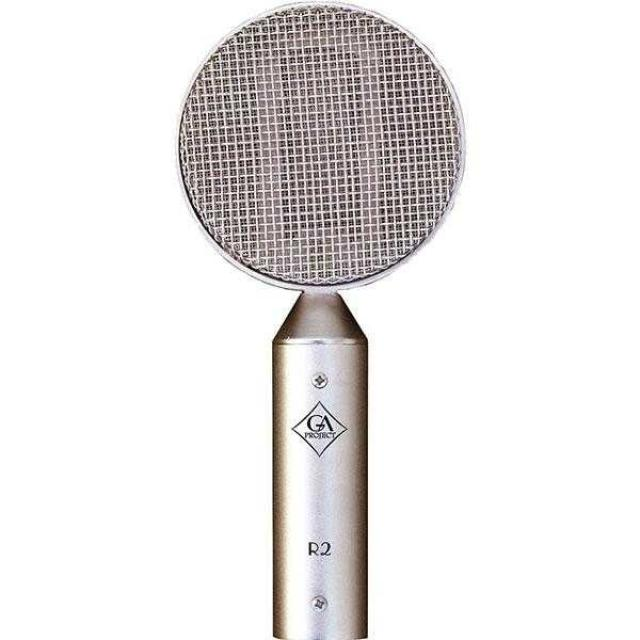microphone: (171, 0, 469, 367)
